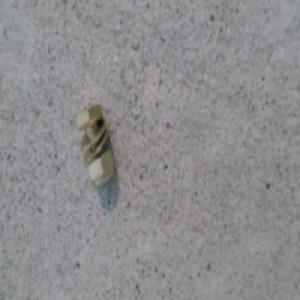BoltNutSet: (74, 102, 113, 186)
